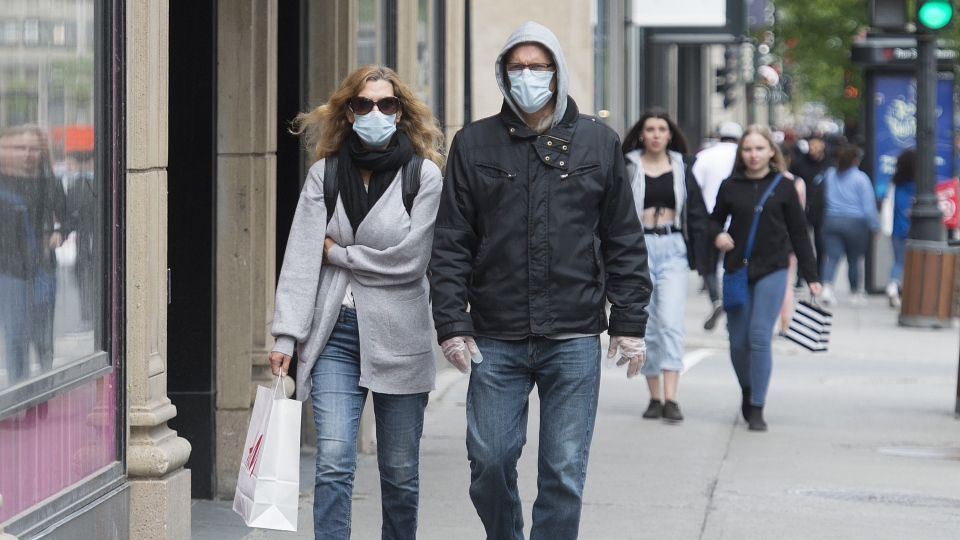with_mask: (346, 87, 398, 146), (503, 53, 556, 110)
without_mask: (741, 133, 772, 172), (644, 118, 670, 153)
